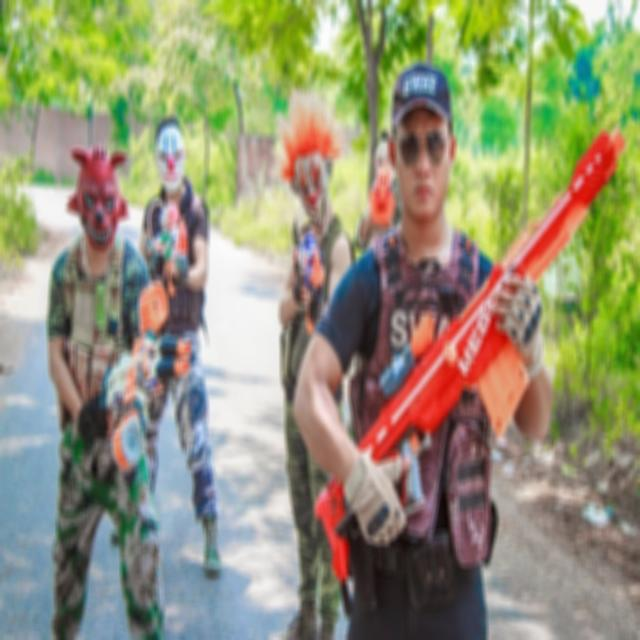Nerf gun: (310, 118, 630, 593), (86, 282, 194, 479), (286, 226, 331, 332), (143, 198, 189, 294), (358, 156, 398, 239)
